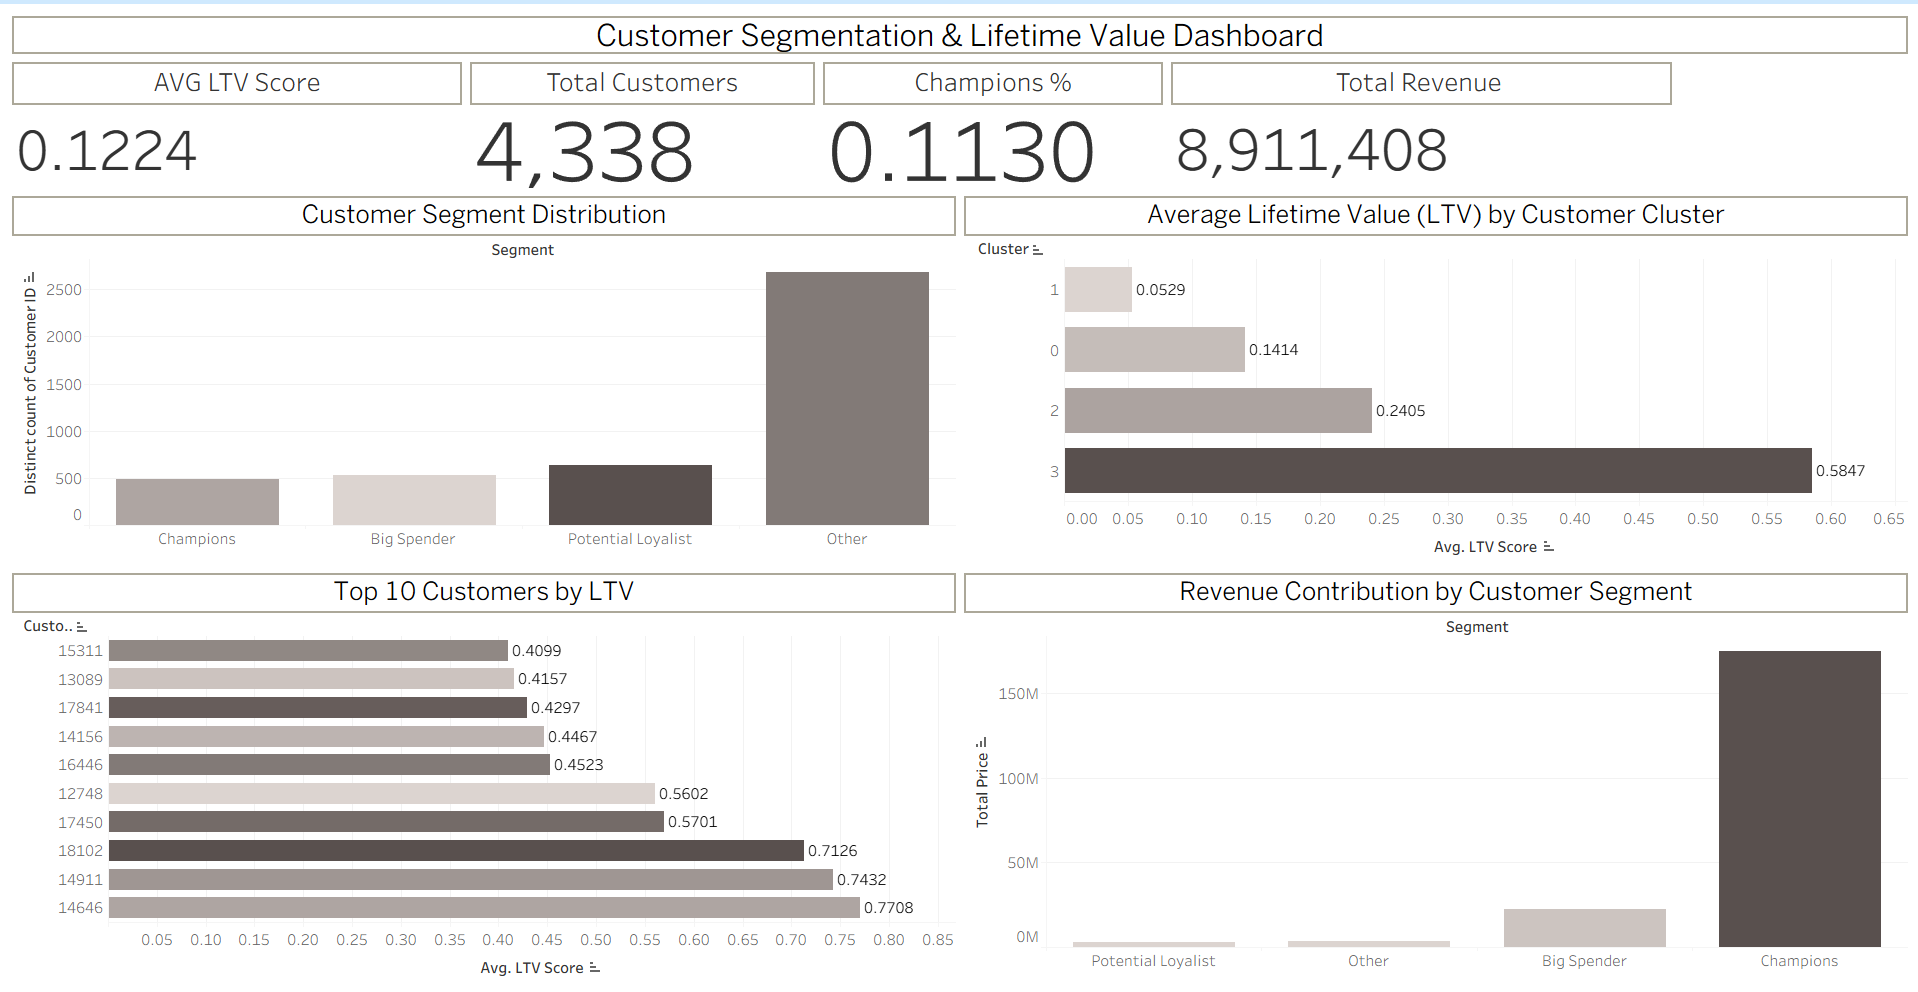

This screenshot's page, from the dashboard's own definition file:
{"tool":"tableau","page":{"name":"Customer Segmentation & Lifetime Value Dashboard","canvas":[1000,1000],"units":"permille","ordinal":0},"visuals":[{"type":"title","box":[6.1,13.8,987.8,69.1]},{"type":"worksheet","title":"avg ltv score ","mark":"Automatic","box":[6.1,82.9,264.3,231.4]},{"type":"worksheet","title":"Total Customer","mark":"Automatic","box":[270.4,82.9,264.3,231.4]},{"type":"worksheet","title":"Champions %","mark":"Automatic","box":[534.6,82.9,195,231.4]},{"type":"worksheet","title":"toatal revenue","mark":"Automatic","box":[729.6,82.9,264.3,231.4]},{"type":"worksheet","title":"Customer Segment Distribution","mark":"Automatic","rows":["CustomerID"],"cols":["Segment"],"box":[6.1,314.3,493.9,317.6]},{"type":"worksheet","title":"Average Lifetime Value (LTV) by Customer Cluster","mark":"Automatic","rows":["Cluster"],"cols":["LTV_Score"],"box":[500,314.3,493.9,317.6]},{"type":"worksheet","title":"top 10 customers","mark":"Automatic","rows":["CustomerID"],"cols":["LTV_Score"],"box":[6.1,631.9,493.9,354.3]},{"type":"worksheet","title":"Revenue Contribution by Customer Segment","mark":"Automatic","rows":["Calculation_985725407347650560"],"cols":["Segment"],"box":[500,631.9,493.9,354.3]}]}

Visuals, with their boxes on the dashboard's canvas, which has no fixed pixel size, in thousandths of its width and height (x1, y1, x2, y2). These are canvas units, not pixel positions in the 1918x992 screenshot, which may show the page scaled, cropped or inside an application window:
title: select_region(6, 14, 994, 83)
"avg ltv score " worksheet: select_region(6, 83, 270, 314)
"Total Customer" worksheet: select_region(270, 83, 535, 314)
"Champions %" worksheet: select_region(535, 83, 730, 314)
"toatal revenue" worksheet: select_region(730, 83, 994, 314)
"Customer Segment Distribution" worksheet: select_region(6, 314, 500, 632)
"Average Lifetime Value (LTV) by Customer Cluster" worksheet: select_region(500, 314, 994, 632)
"top 10 customers" worksheet: select_region(6, 632, 500, 986)
"Revenue Contribution by Customer Segment" worksheet: select_region(500, 632, 994, 986)
